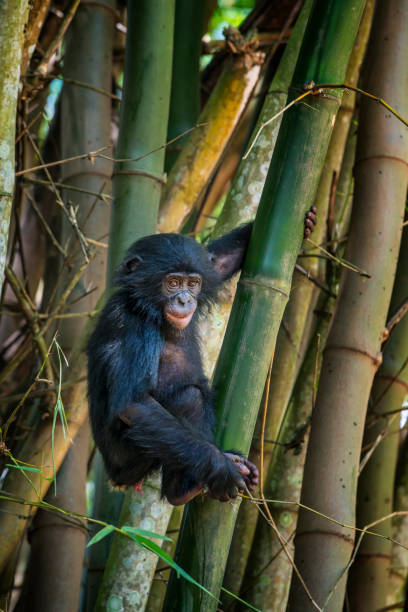chimpanzee: (120, 223, 231, 341)
